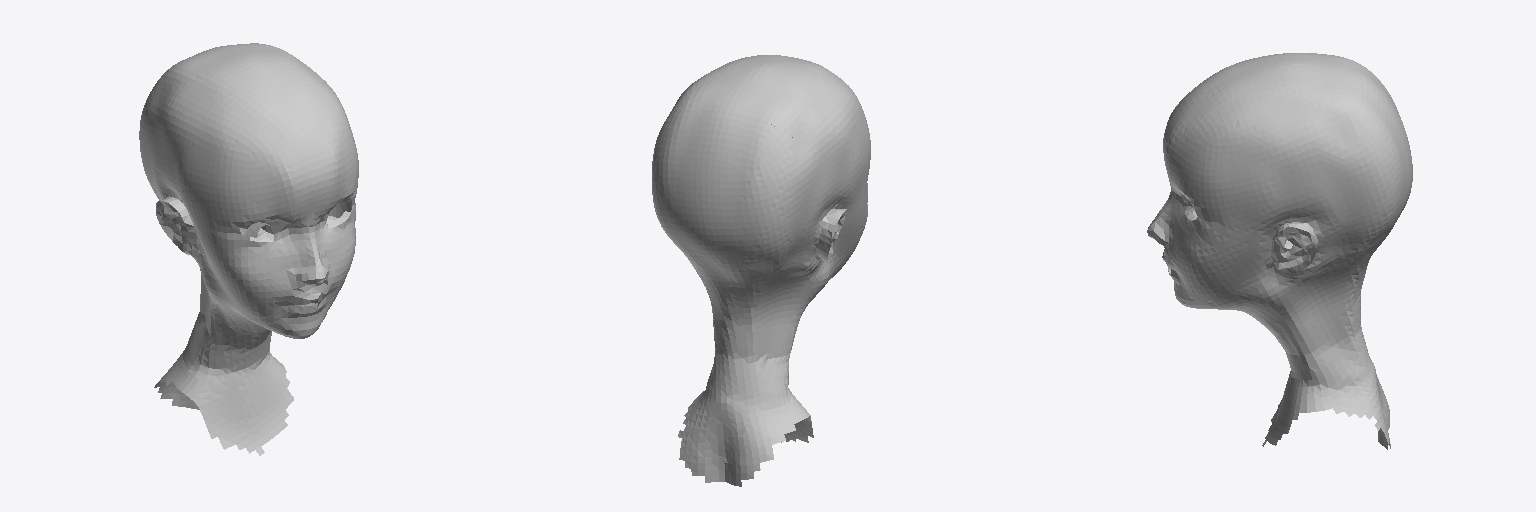
The model's file is JustTheHeadRemesh.obj.
3 renders of one model, left to right at view 1: azimuth 30°, elevation 25°; view 2: azimuth 150°, elevation 25°; view 3: azimuth 270°, elevation 25°, orthographic.
Size of the model in its own units: 0.1095 by 0.2403 by 0.1506.